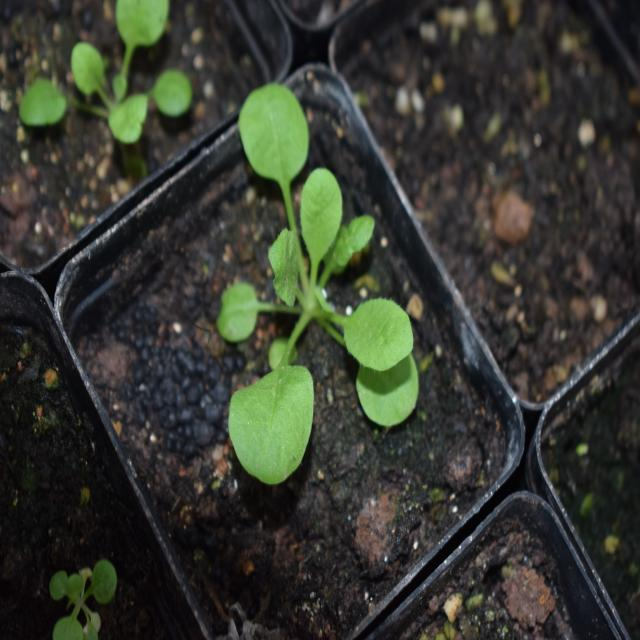Shepherd_Purse: (213, 77, 423, 480)
